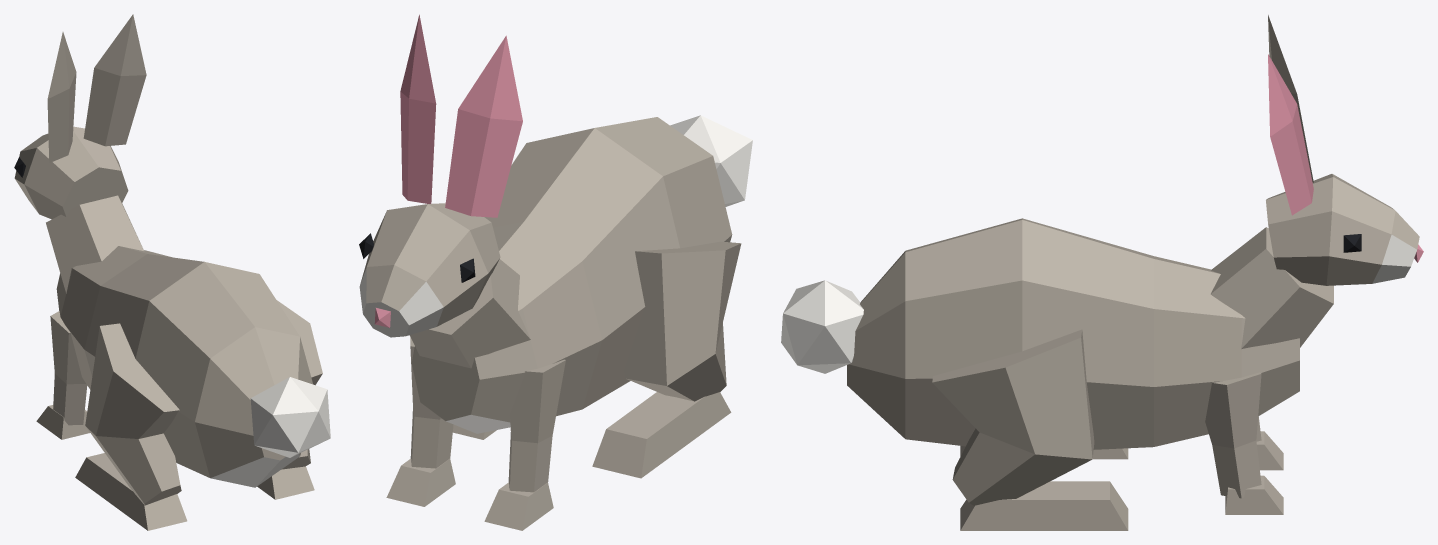
Rendered from rabbit.glb.
3 views of the same model, side by side, from view 1: azimuth 30°, elevation 25°; view 2: azimuth 150°, elevation 25°; view 3: azimuth 270°, elevation 25° (orthographic). The views are drawn at different scales.
Visible parts, largest first — view 1: Body, Head, Leg_RL, Tail, Leg_FL, Leg_RR; view 2: Body, Head, Leg_RL, Leg_FL, Leg_FR, Tail; view 3: Body, Leg_RR, Head, Leg_FR, Tail, Leg_FL.
Part boxes in pixels (x1,y1,x2,y2): Body: [56, 246, 313, 487]; Head: [14, 14, 146, 293]; Leg_RL: [75, 323, 187, 530]; Tail: [250, 377, 330, 457]; Leg_FL: [36, 311, 89, 439]; Leg_RR: [257, 300, 322, 499]; Body: [411, 117, 732, 433]; Head: [359, 14, 530, 368]; Leg_RL: [592, 241, 741, 478]; Leg_FL: [484, 359, 565, 530]; Leg_FR: [386, 337, 455, 506]; Tail: [670, 115, 752, 206]; Body: [847, 218, 1299, 449]; Leg_RR: [932, 329, 1128, 530]; Head: [1210, 15, 1423, 349]; Leg_FR: [1205, 372, 1283, 514]; Tail: [781, 280, 863, 373]; Leg_FL: [1256, 416, 1283, 470].
Bounding box in the file's own units: 0.1879 × 0.34 × 0.4399.
